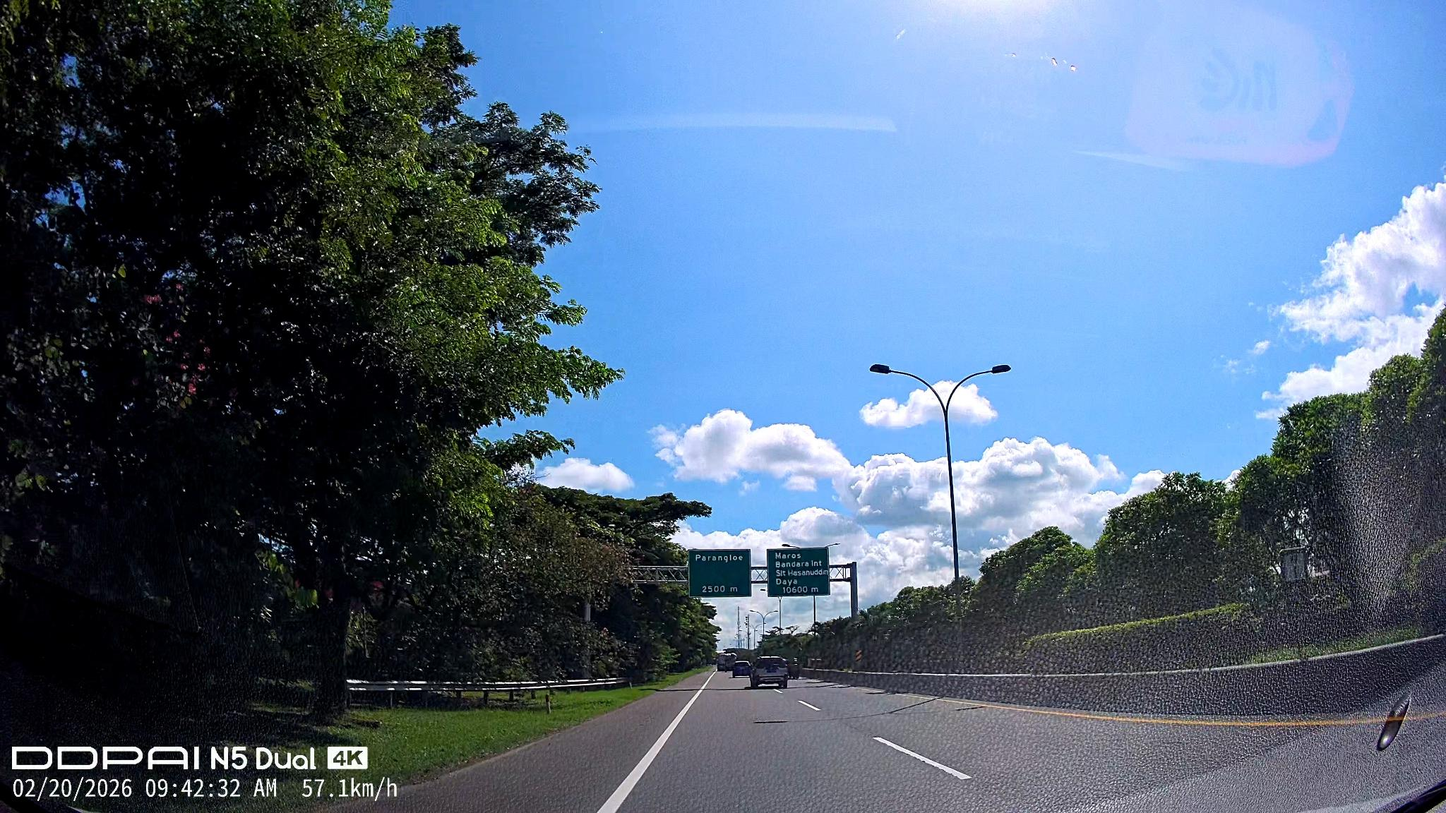rambu_teks: (766, 547, 831, 598), (688, 548, 752, 598)
